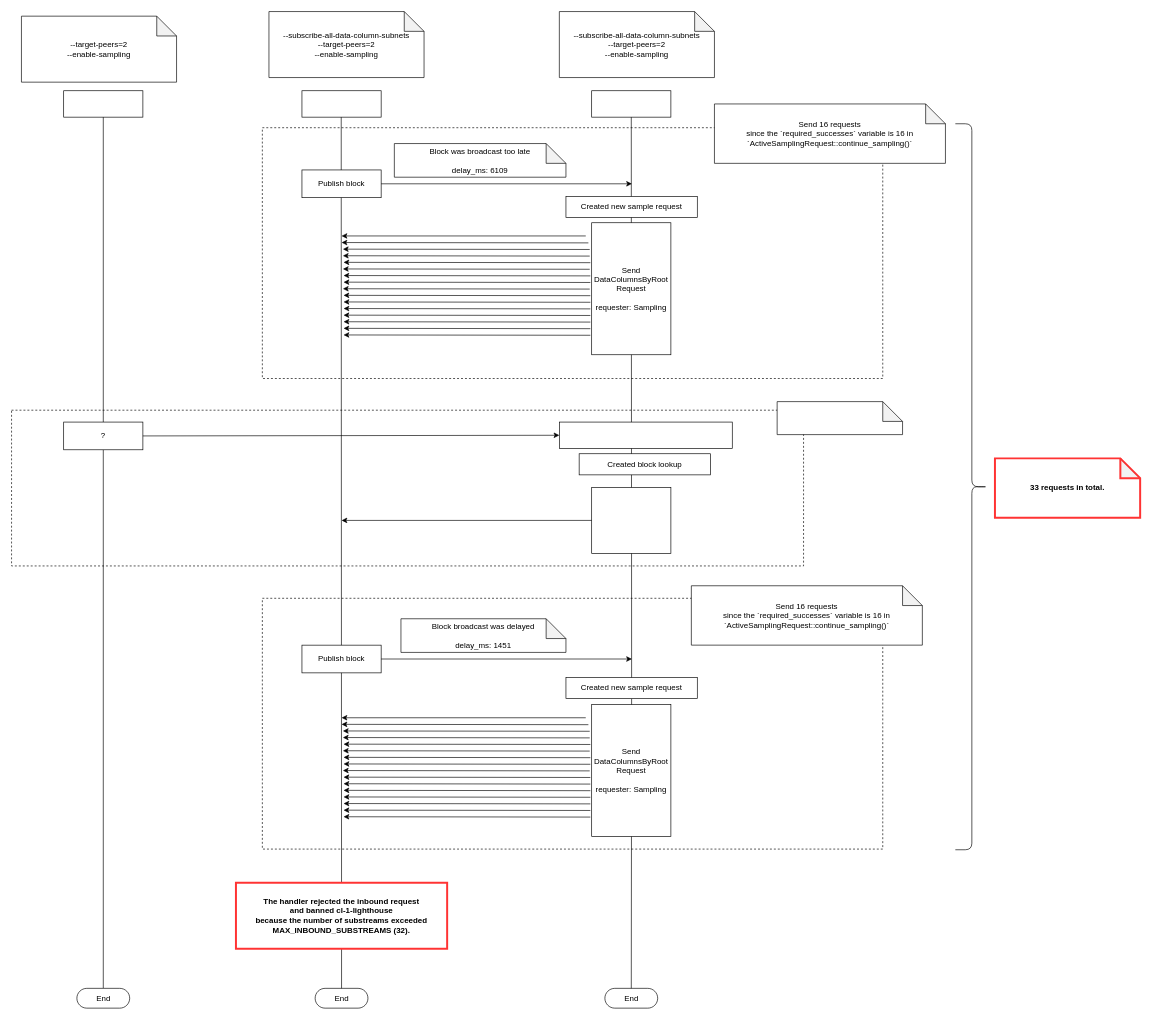
Image size: 1152x1020. Some labels were removed from this diagram. The shapes that lost their labels are listed below. From the top down, each one's centre as x and y in pixels, then its label:
the point at 103,103: cl-3-lighthouse
the point at 341,103: cl-2-lighthouse
the point at 631,103: cl-1-lighthouse
the point at 645,434: Received unknown block hash message
the point at 839,418: Send 1 request
the point at 631,520: Send DataColumnsByRoot Request requester: Custody
